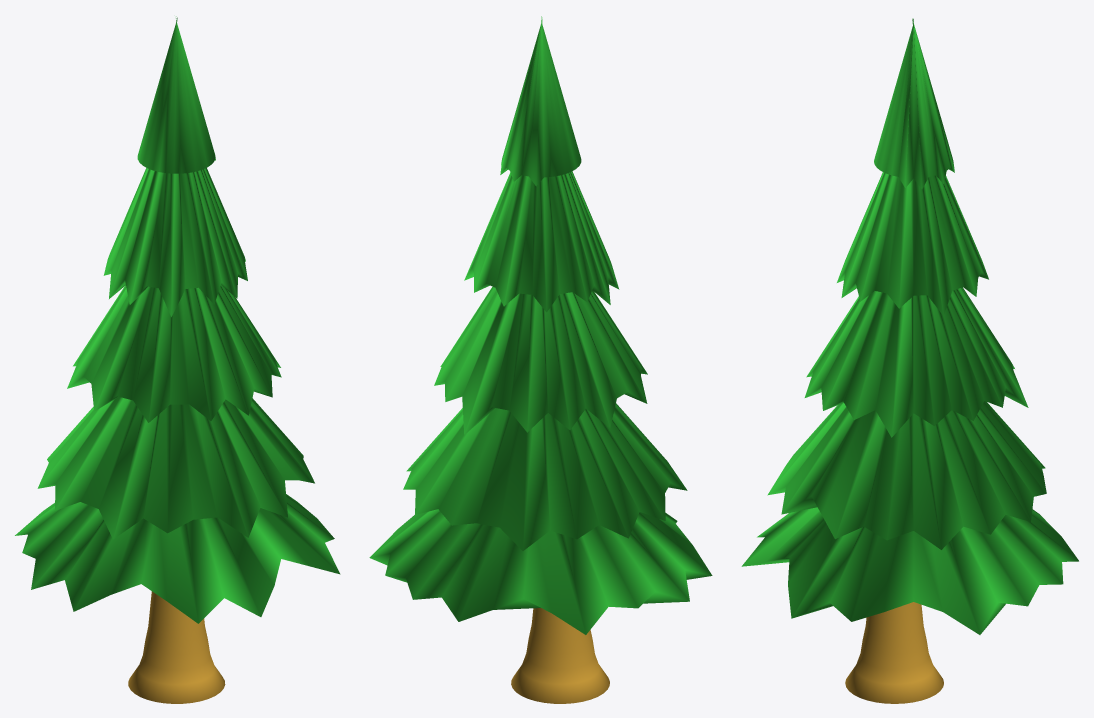
File: tree.obj.fbx
3 views of the same model, side by side, from view 1: azimuth 30°, elevation 25°; view 2: azimuth 150°, elevation 25°; view 3: azimuth 270°, elevation 25° (orthographic).
Parts seen in each view (by area): view 1: Cylinder.001, Cylinder.002; view 2: Cylinder.001, Cylinder.002; view 3: Cylinder.001, Cylinder.002.
Part boxes in pixels (x1=…): Cylinder.001: x1=15, y1=16, x2=340, y2=623; Cylinder.002: x1=128, y1=591, x2=225, y2=703; Cylinder.001: x1=369, y1=16, x2=712, y2=634; Cylinder.002: x1=511, y1=608, x2=609, y2=703; Cylinder.001: x1=741, y1=18, x2=1078, y2=634; Cylinder.002: x1=845, y1=602, x2=943, y2=703.
Bounding box in the file's own units: 572 × 1283 × 584.
